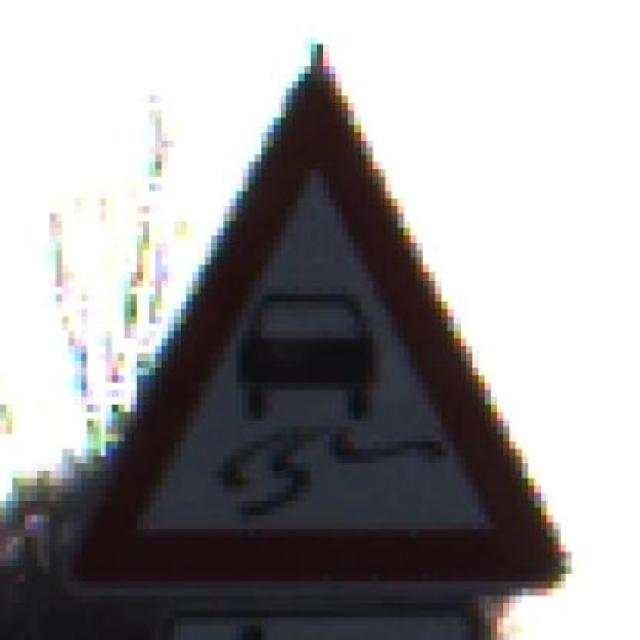Slippery Road Ahead: (56, 44, 578, 604)
